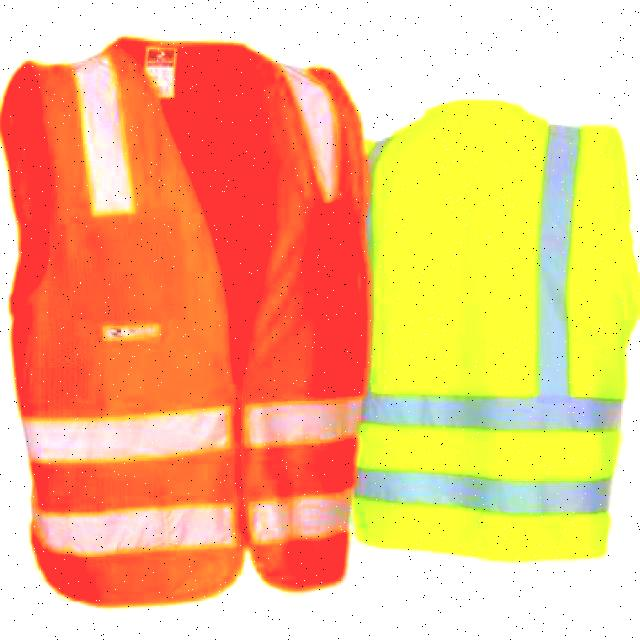Mask: (11, 36, 360, 587), (353, 97, 627, 551)
